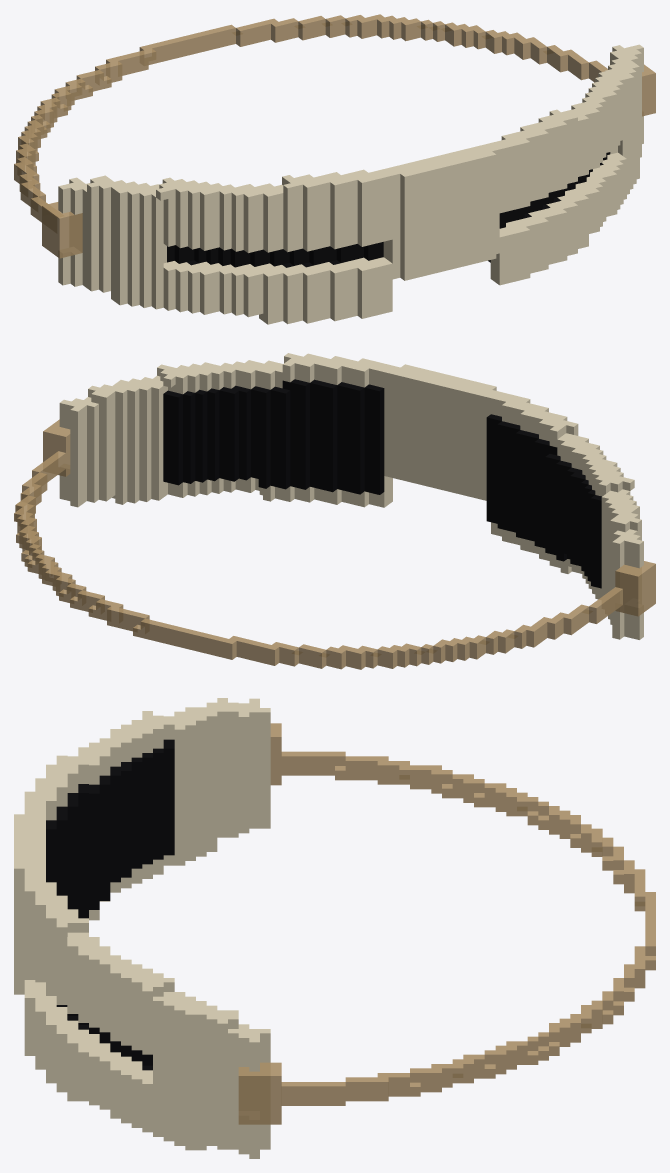
Rendered from iggaak.glb.
3 renders of one model, top to bottom at view 1: azimuth 30°, elevation 25°; view 2: azimuth 150°, elevation 25°; view 3: azimuth 270°, elevation 25°, orthographic. The views are drawn at different scales.
Visible parts, largest first — view 1: iggaak:compound; view 2: iggaak:compound; view 3: iggaak:compound.
Part boxes in pixels (<box>): iggaak:compound: <box>14,14,655,324</box>; iggaak:compound: <box>14,353,655,669</box>; iggaak:compound: <box>14,698,655,1158</box>.
Bounding box in the file's own units: 0.156 × 0.034 × 0.12.
